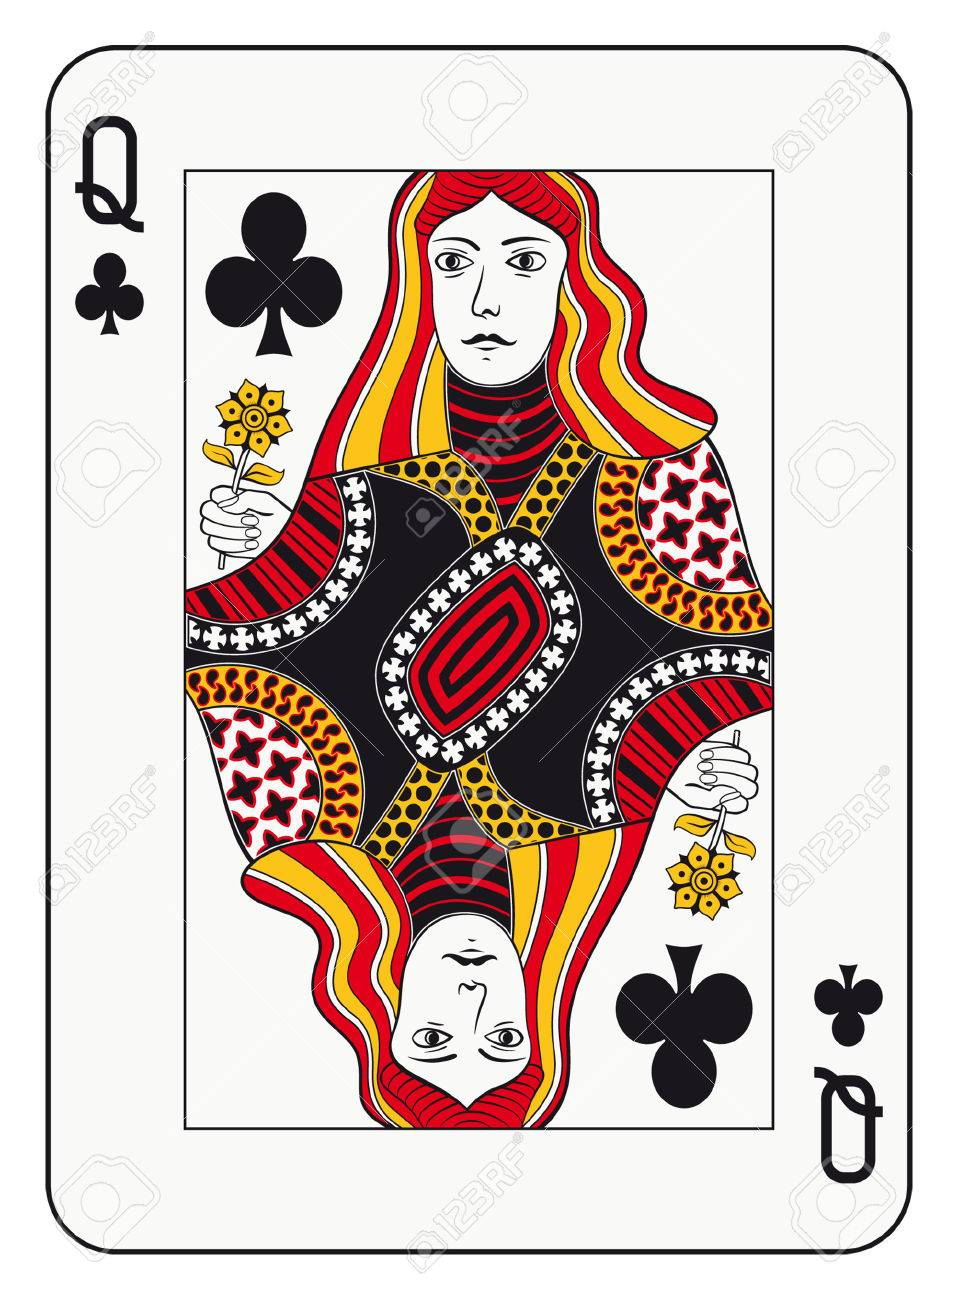queen of clubs: (47, 49, 900, 1245)
